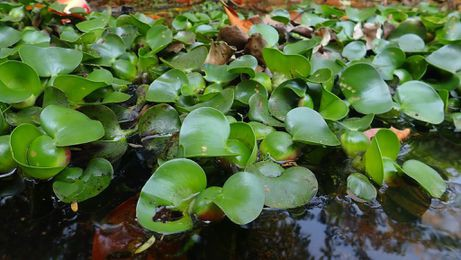water_hyacinth: (1, 4, 461, 234)
